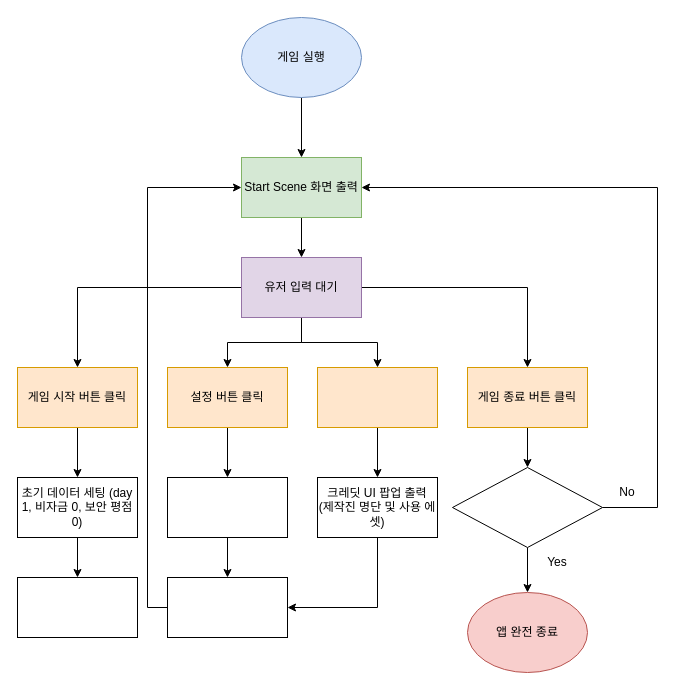
Image size: 683x690. Some labels were removed from this diagram. The shapes that lost their labels are listed below. From the top down, each one's box as (x1, y1, x2, y2) in pixels, then its label:
(316, 366, 438, 428): 크레딧 버튼 클릭
(166, 476, 288, 538): 설정 UI 팝업 출력
(452, 466, 602, 548): 종료 확인 팝업 (yes/no)
(16, 576, 138, 638): Intro 스토리 컷씬 씬 로드
(166, 576, 288, 638): 닫기 버튼 클릭
